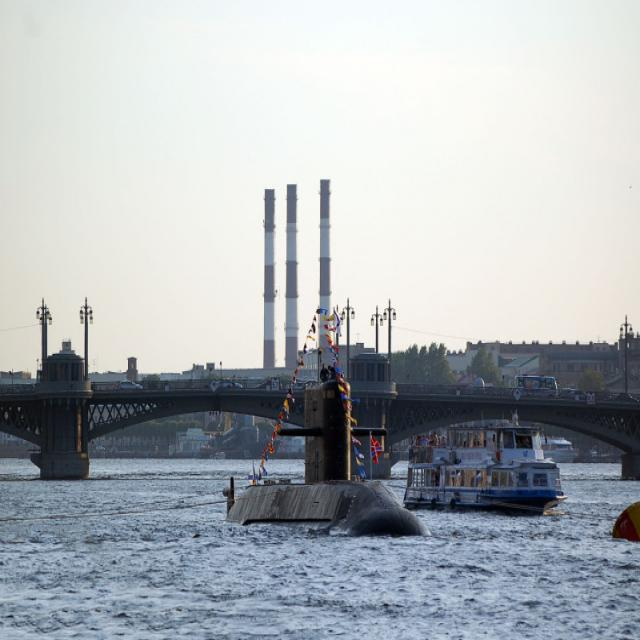submarine: (224, 348, 418, 521)
